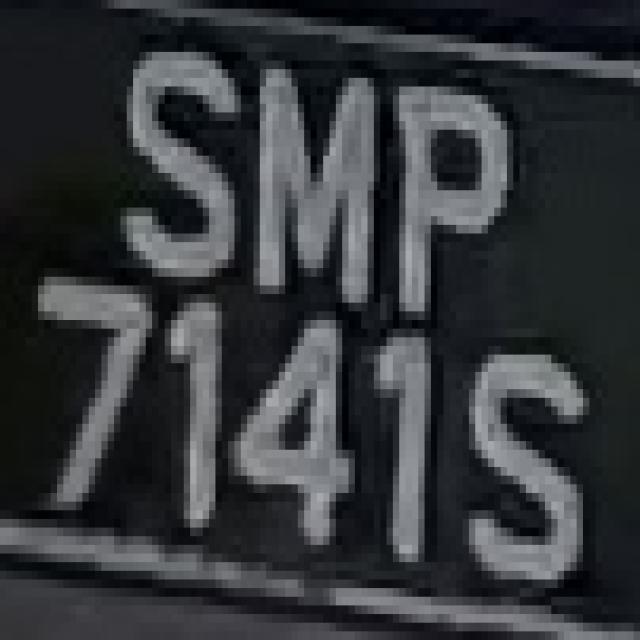1: (152, 286, 235, 554), (367, 294, 431, 614)
4: (215, 294, 348, 571)
7: (19, 251, 133, 545)
M: (241, 60, 380, 302)
P: (380, 43, 520, 320)
S: (82, 26, 234, 311), (456, 303, 602, 596)
